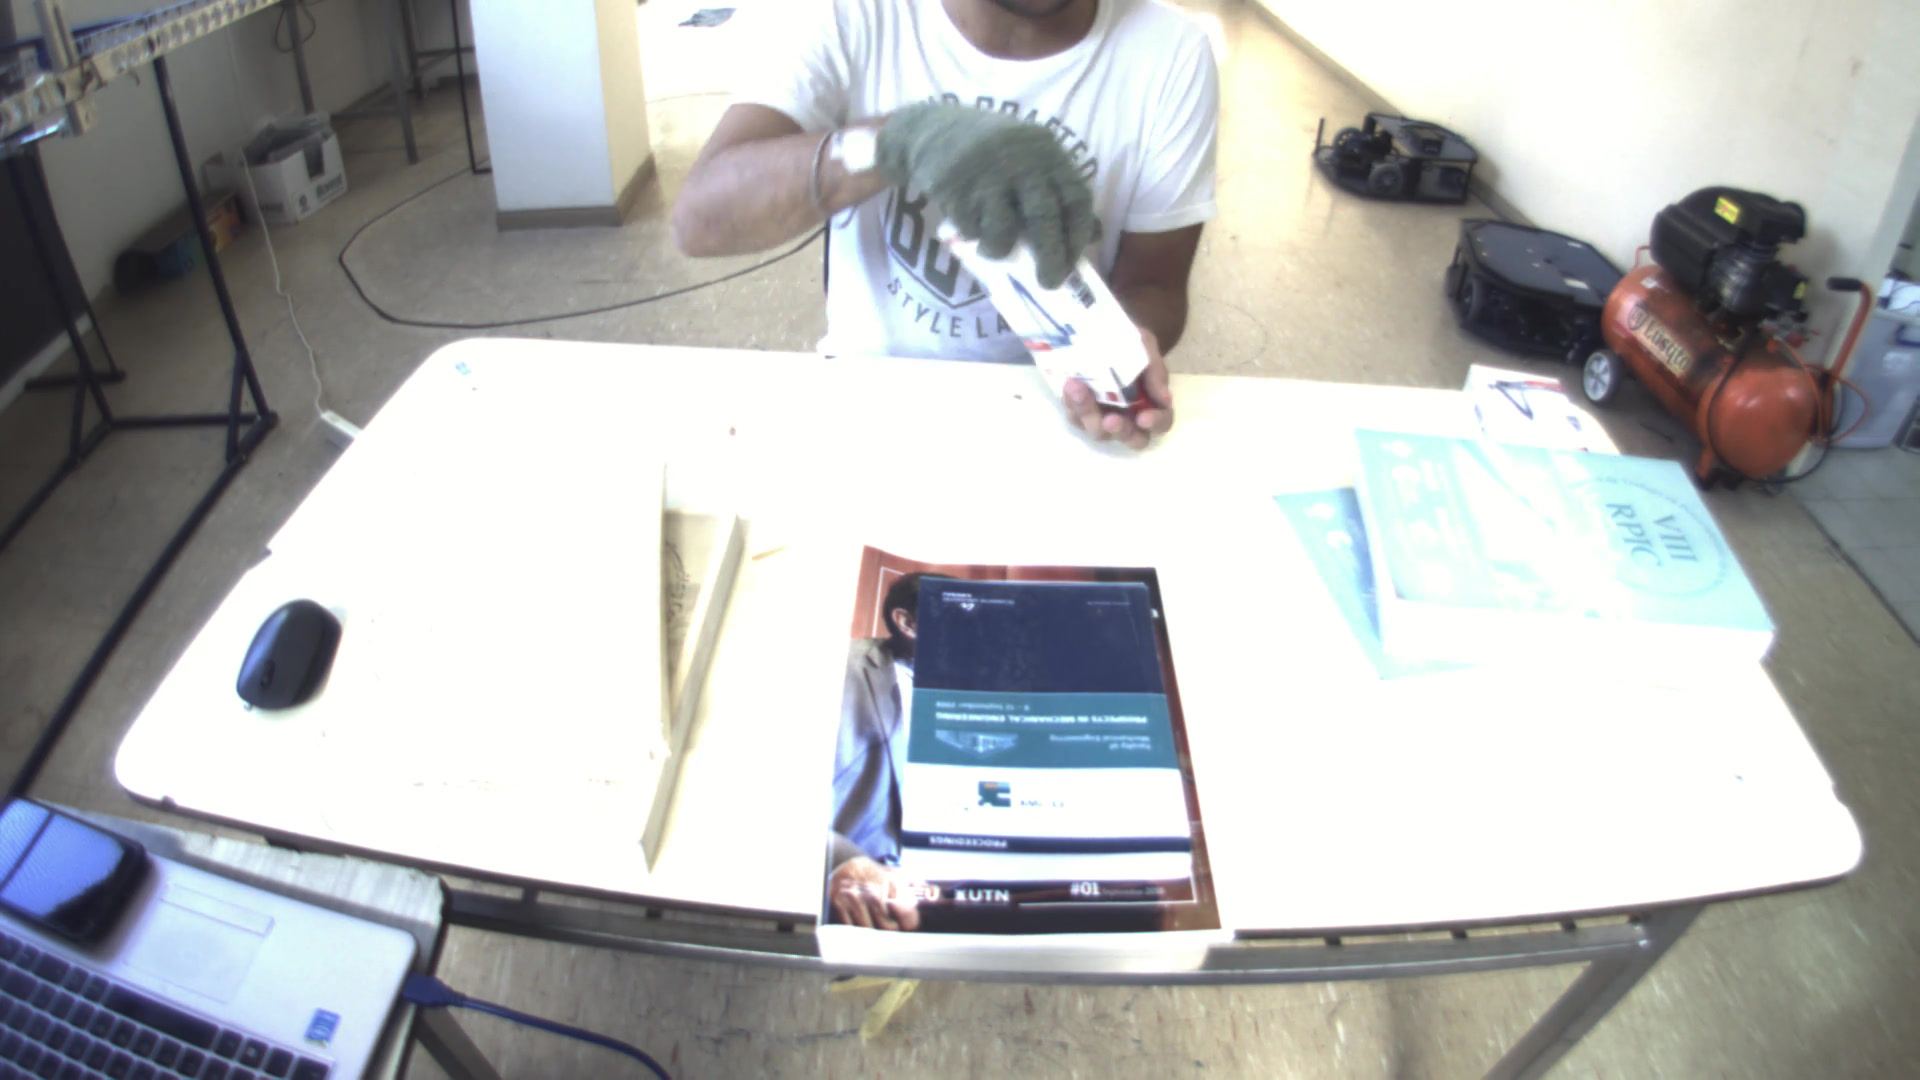hand: (866, 92, 1105, 269), (1064, 326, 1178, 454)
